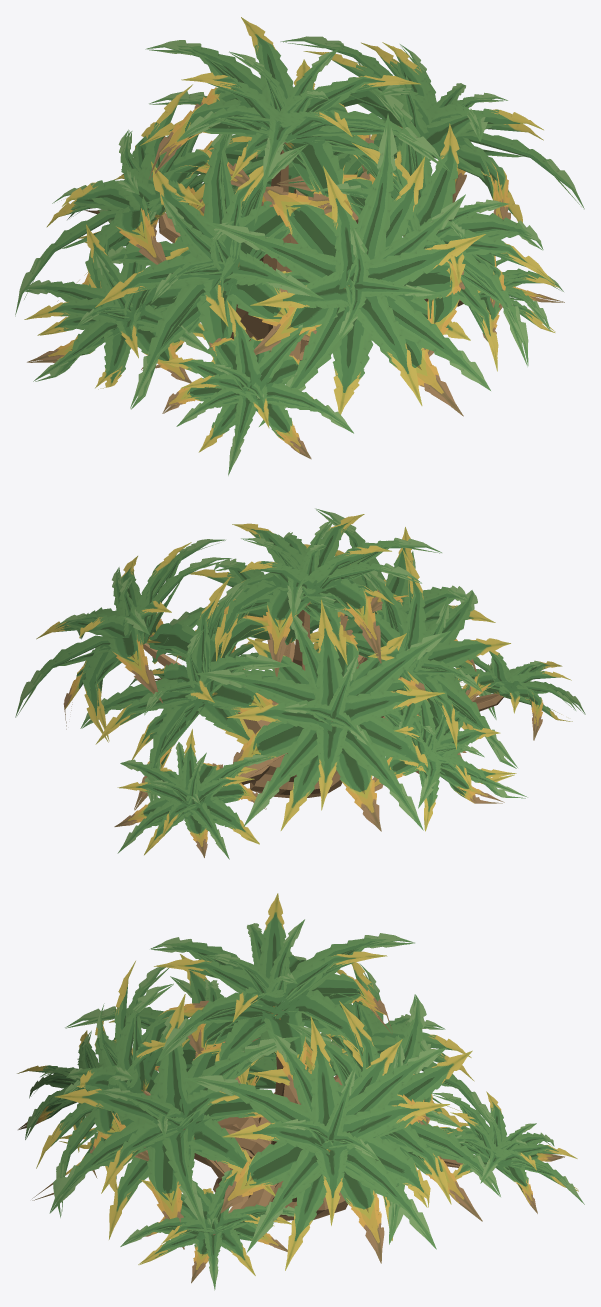
The model's file is Bush 05.fbx.
3 renders of one model, top to bottom at view 1: azimuth 30°, elevation 25°; view 2: azimuth 150°, elevation 25°; view 3: azimuth 270°, elevation 25°, orthographic. The views are drawn at different scales.
Visible parts, largest first — view 1: SM_Env_Succulent_05_LOD1; view 2: SM_Env_Succulent_05_LOD1; view 3: SM_Env_Succulent_05_LOD1.
Part boxes in pixels (x1=…): SM_Env_Succulent_05_LOD1: x1=15, y1=17, x2=584, y2=475; SM_Env_Succulent_05_LOD1: x1=15, y1=508, x2=585, y2=859; SM_Env_Succulent_05_LOD1: x1=17, y1=893, x2=584, y2=1290.
Bounding box in the file's own units: 391 × 204 × 390.
Materials: 1 (1 with a texture image).
